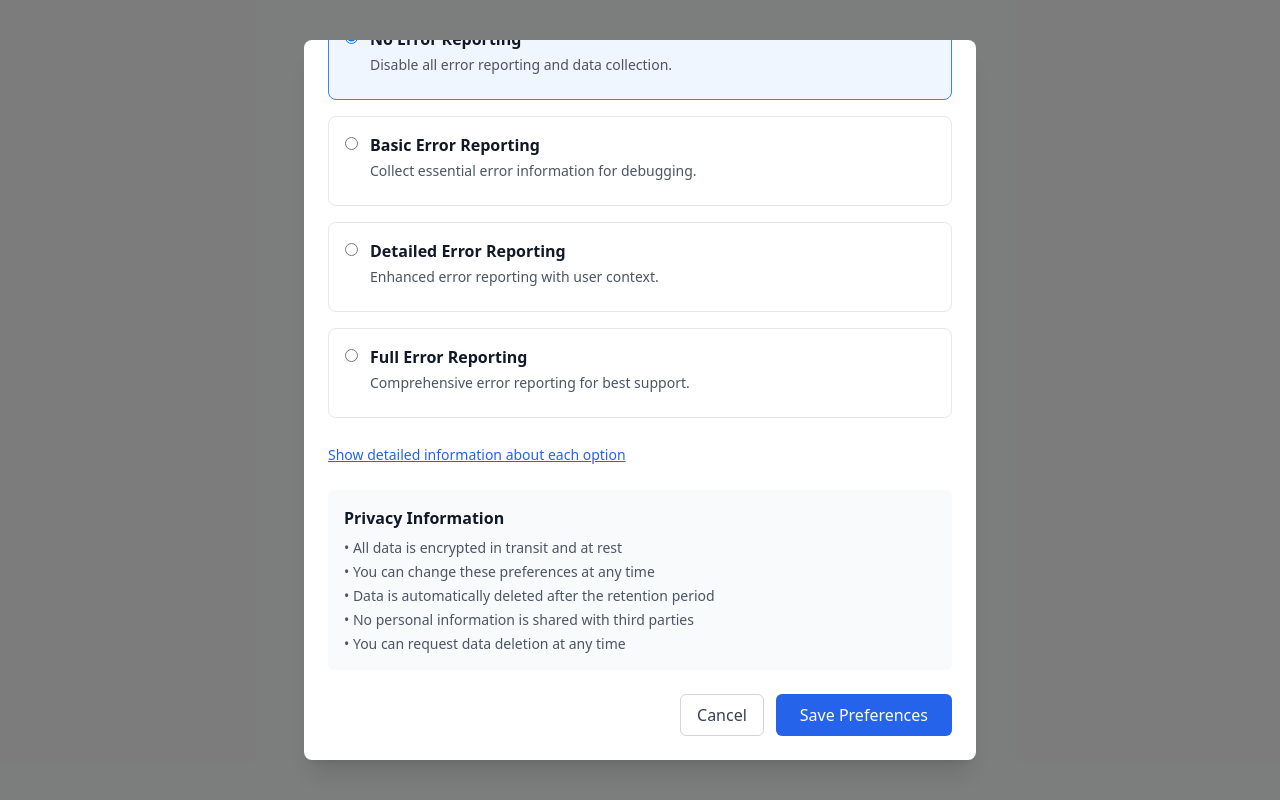
Test: ErrorReportConsentModal › should disable buttons when loading
(page scrolled)
Click the button "Save Preferences": (864, 715) [776, 694, 952, 736]
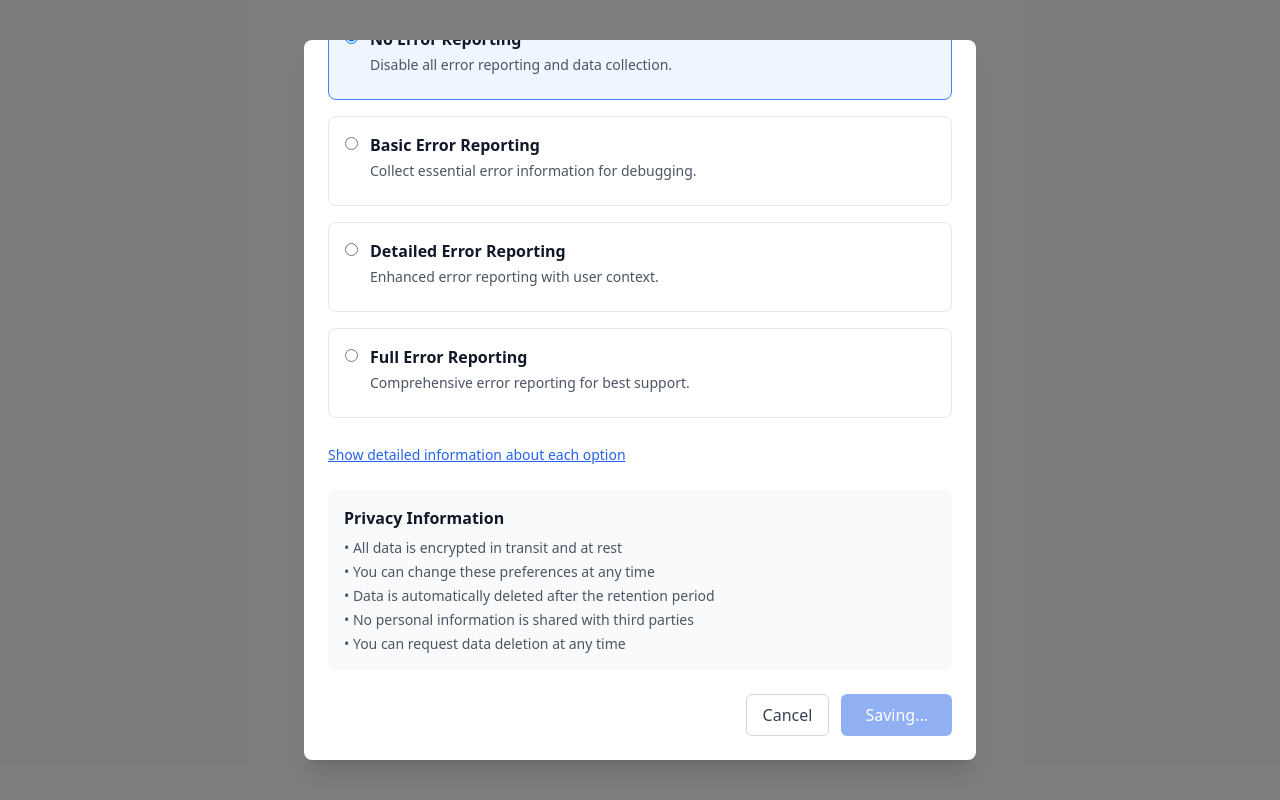
Expected: the button "Saving..." is shown, [841, 694, 952, 736]
Expected: the button "Cancel" is disabled, [746, 694, 829, 736]
